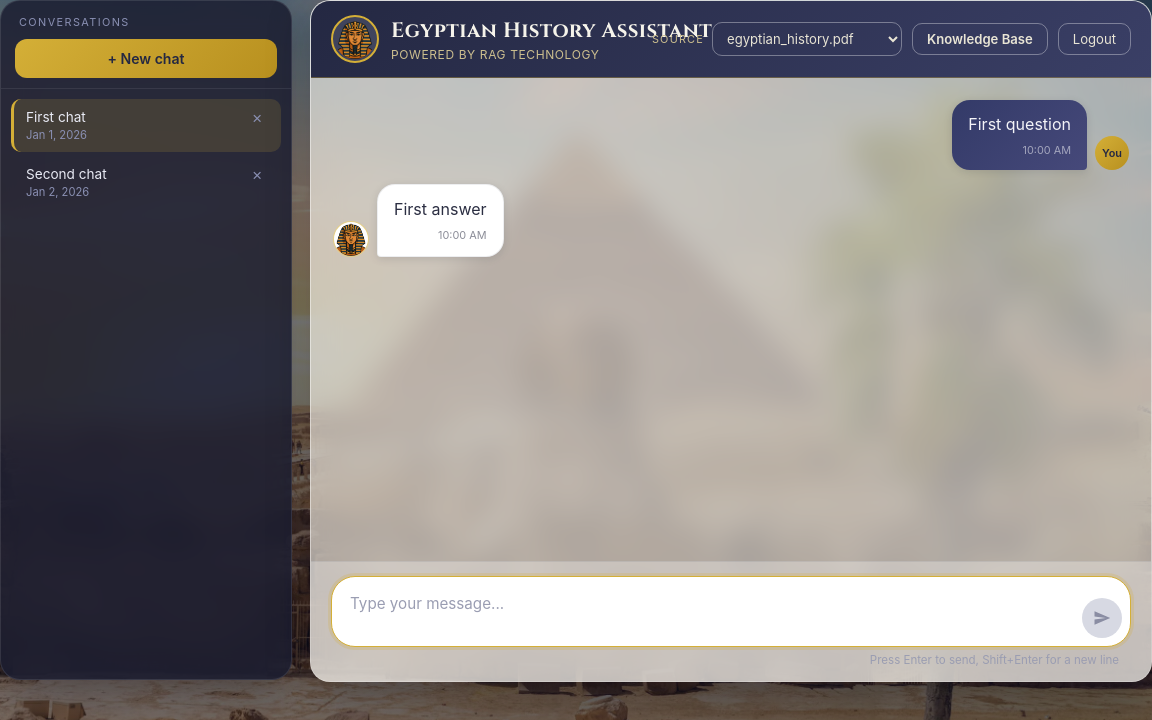
Test: ChatInterface › switches conversations and drops a pending stream
Expected: the text "First question" is shown, [968,112,1071,136]
Type "stream me a long answer" into the text box with placeholder "Type your message..." at {"x": 712, "y": 612}, box [350,585,1074,638]
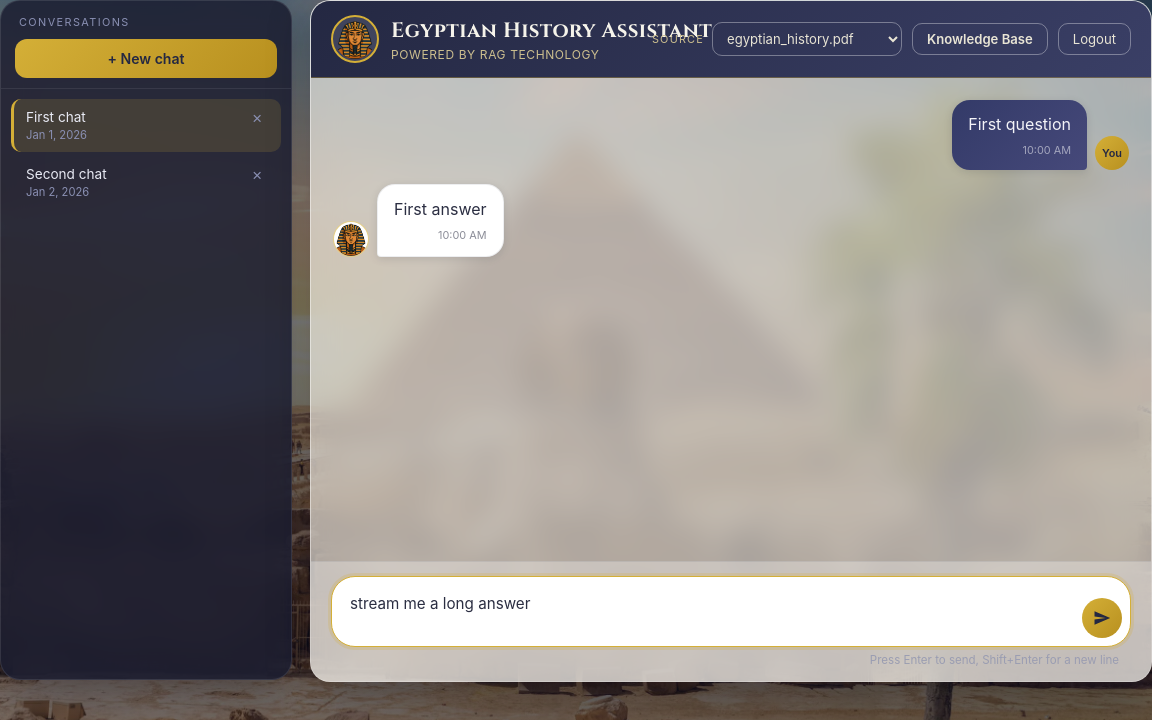
Click the button with class "send-button" at {"x": 1102, "y": 618}, box [1082,598,1122,638]
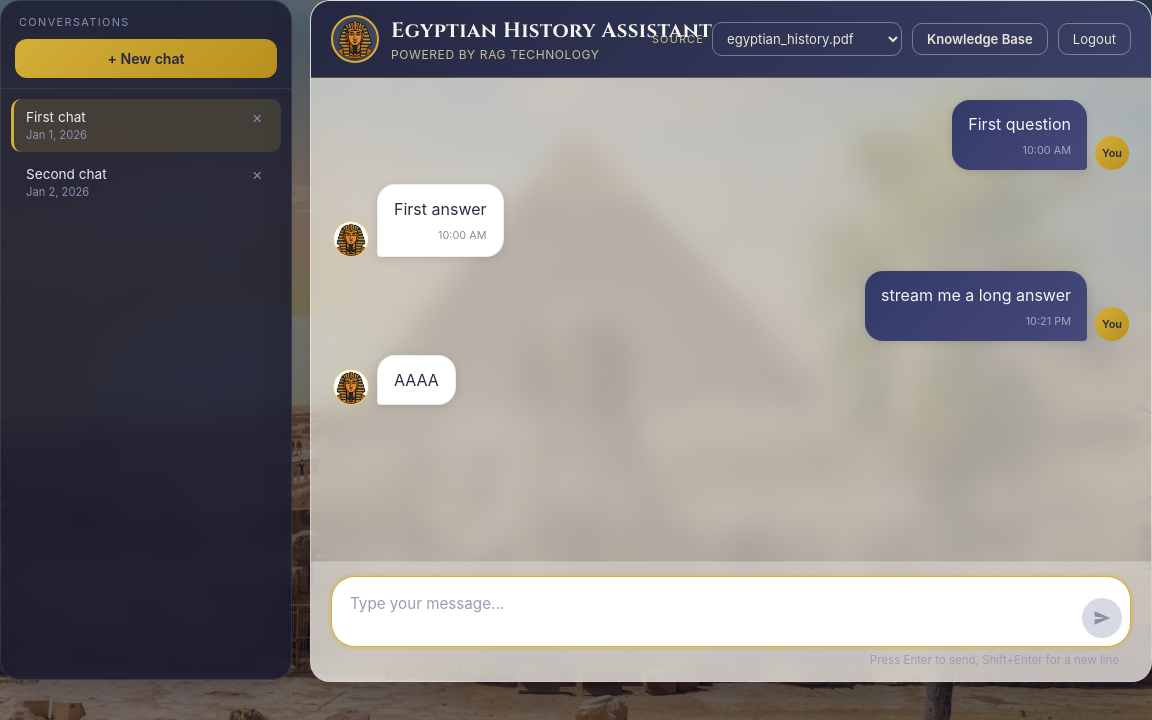
Click the text "Second chat" at {"x": 66, "y": 174}, box [26,166,107,182]
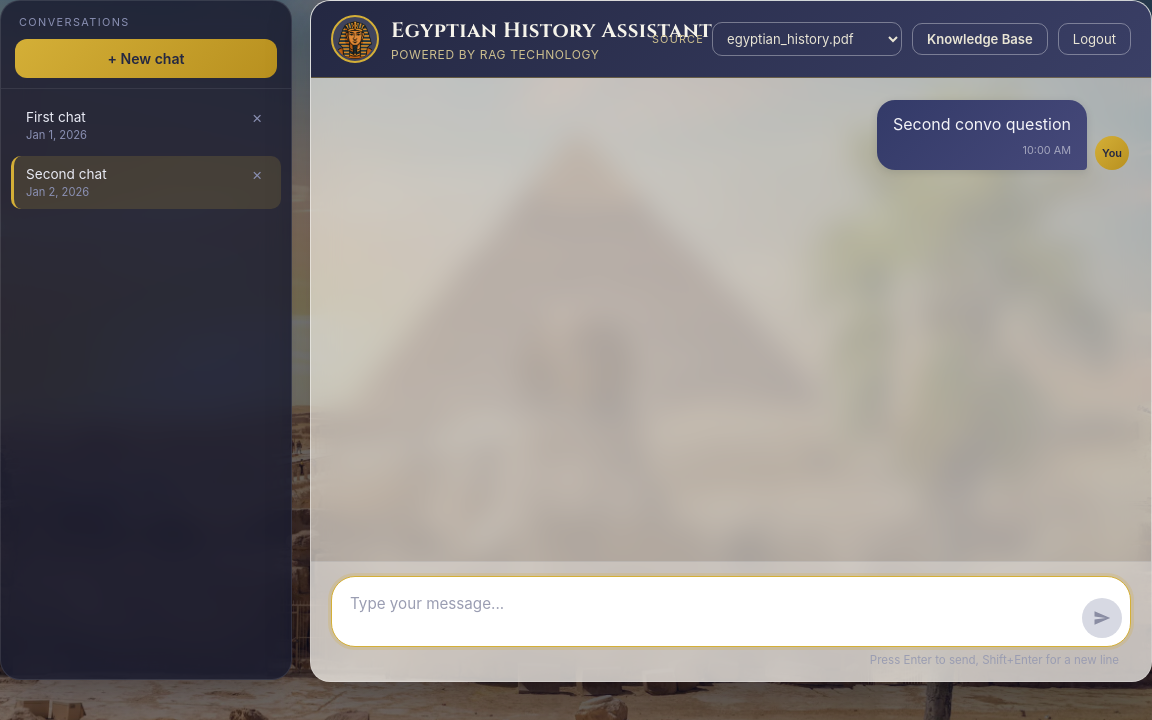
Expected: the element with class "conversation-item" shows "Second chat", [26,166,237,199]
Result: the text "Second convo question" is shown at [893,112,1071,136]
Result: the text "First question" is gone
